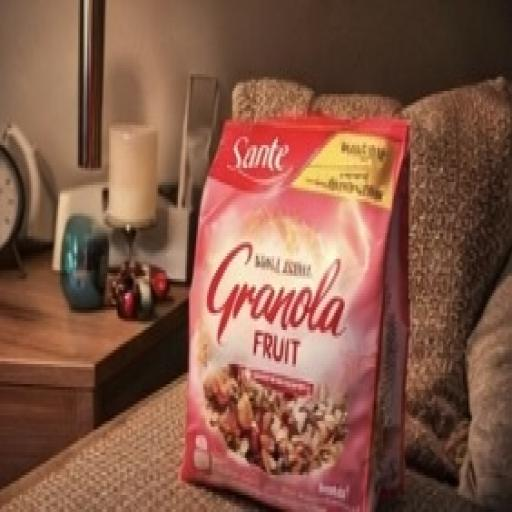granola: (157, 100, 450, 496)
